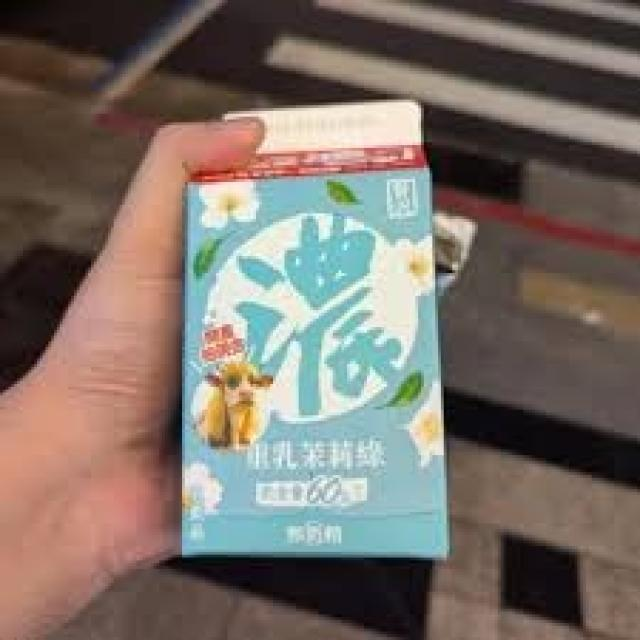Known_MilkGreenTea: (196, 113, 451, 556)
